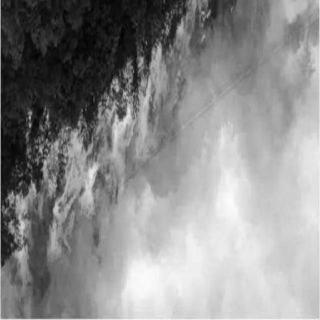Fire: (110, 3, 220, 189)
Smoke: (64, 134, 313, 310), (186, 9, 310, 283)
